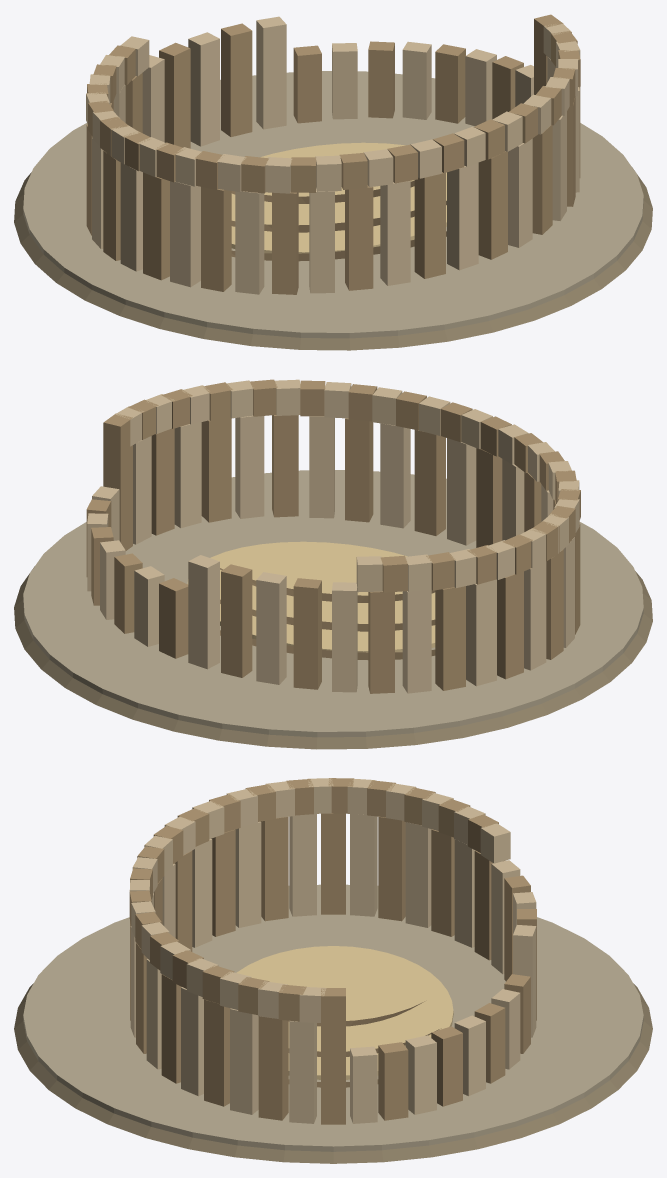
File: colosseum.glb
The picture shows the model from 3 angles, top to bottom: view 1: azimuth 30°, elevation 25°; view 2: azimuth 150°, elevation 25°; view 3: azimuth 270°, elevation 25°; orthographic projection.
Parts seen in each view (by area): view 1: colosseum; view 2: colosseum; view 3: colosseum.
Boxes of the visible parts, <box> form: colosseum: <box>14,14,652,350</box>; colosseum: <box>14,379,652,749</box>; colosseum: <box>14,778,652,1163</box>.
Size of the model in its own units: 4.09 by 1 by 4.09.
